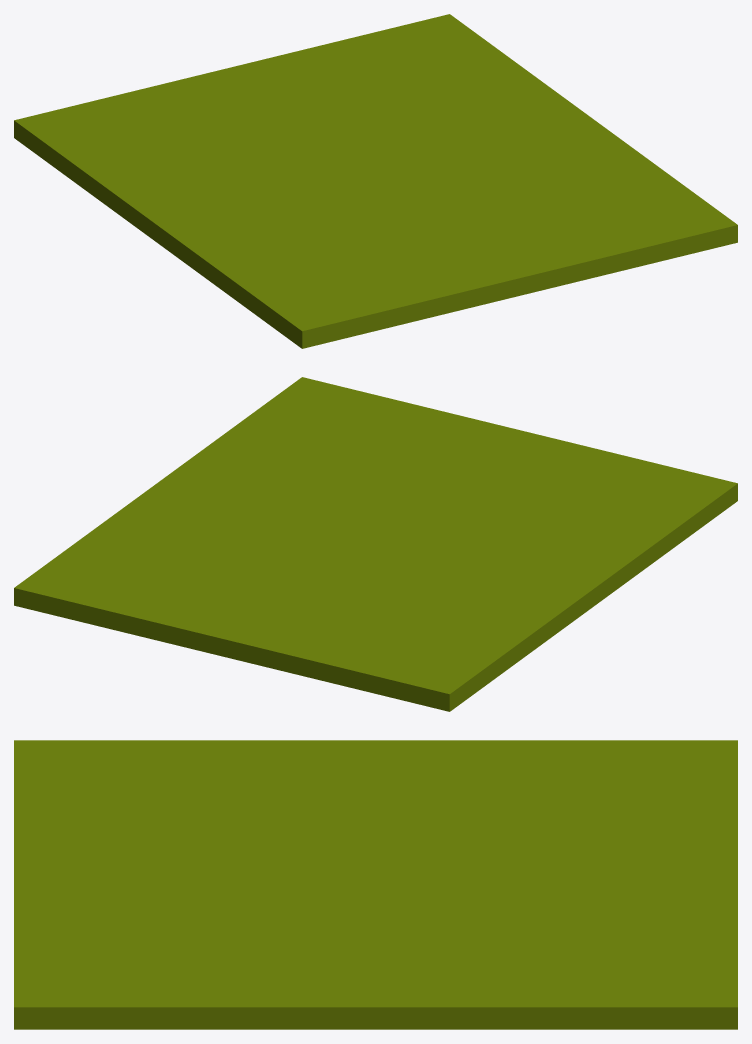
Rendered from lavaflow.DAE.
3 views of the same model, one above another, from view 1: azimuth 30°, elevation 25°; view 2: azimuth 150°, elevation 25°; view 3: azimuth 270°, elevation 25° (orthographic). The views are drawn at different scales.
Parts seen in each view (by area): view 1: bounds; view 2: bounds; view 3: bounds.
Boxes of the visible parts, left/top/right/bottom form: bounds: left=14, top=14, right=737, bottom=348; bounds: left=14, top=377, right=737, bottom=711; bounds: left=14, top=740, right=737, bottom=1029.
Bounding box in the file's own units: 48.47 × 55.52 × 1.88.
